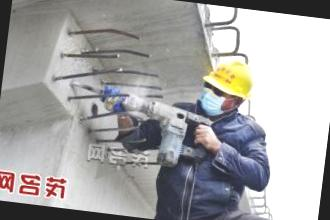person: (106, 40, 309, 220)
